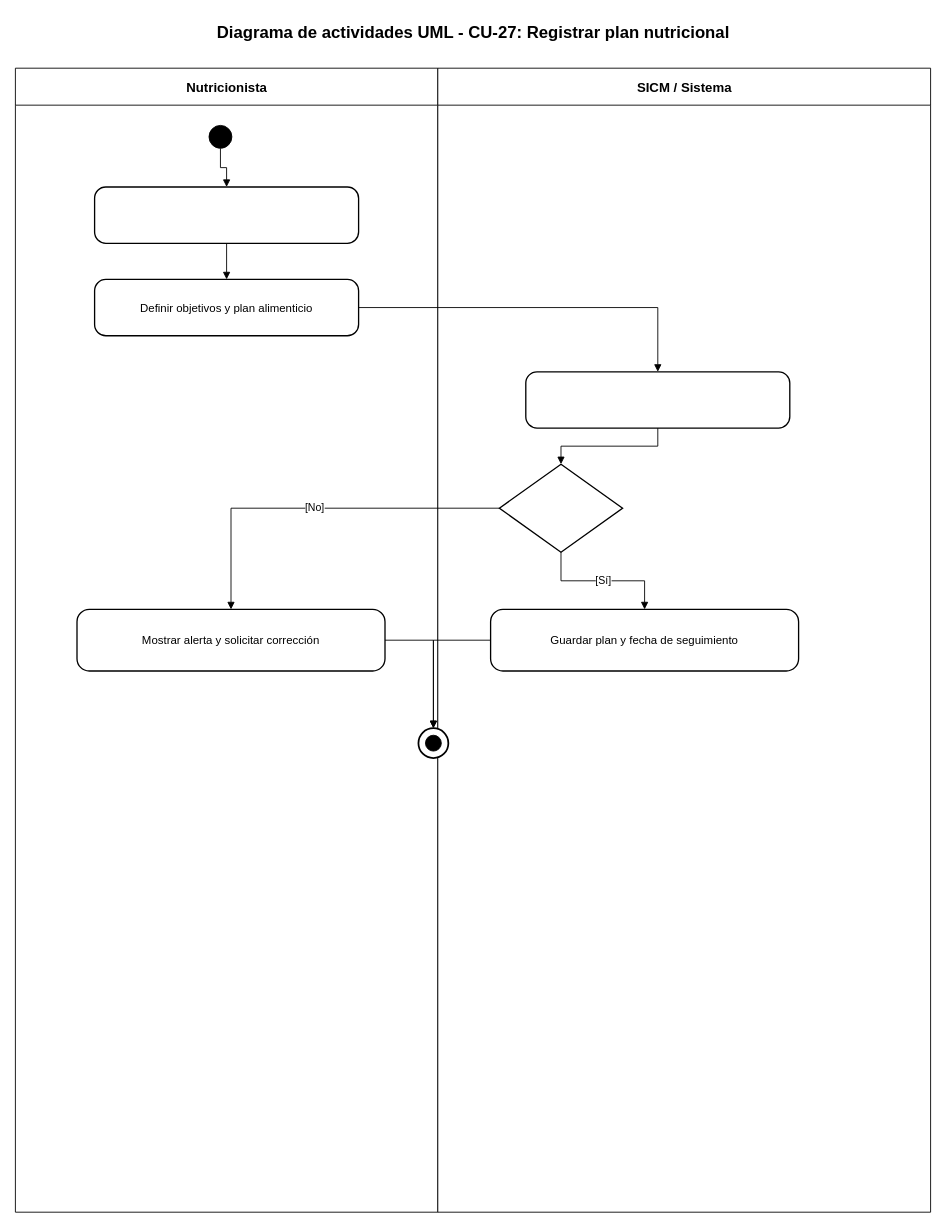
Some shapes in this 946 by 1228 pixel diagram are drawn without their labels. The shapes that lost their labels are listed below. From the top down, each one's centre as x and y in pixels, then its label:
At (226,215): "Evaluar al paciente".
At (657,399): "Consultar alergias y restricciones".
At (560,507): "¿Plan compatible con restricciones?".
